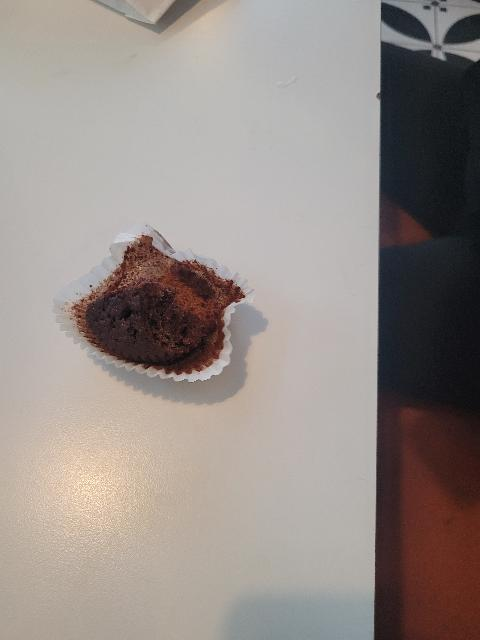Kagit: (49, 222, 254, 387)
